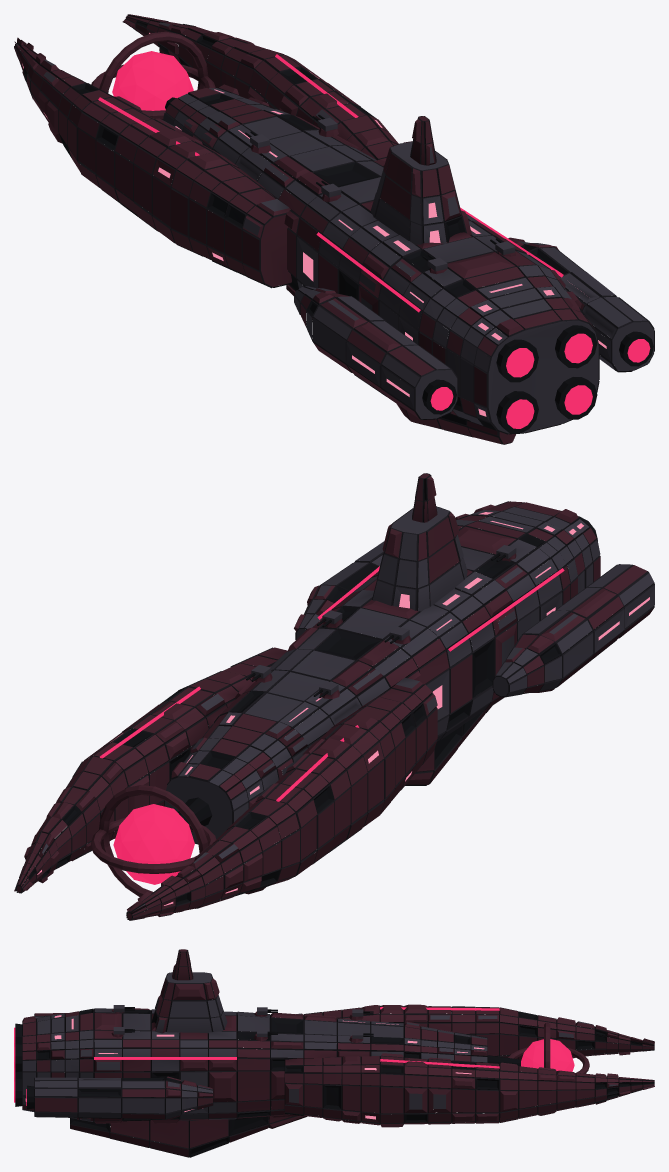
File: warden.glb
The picture shows the model from 3 angles, top to bottom: view 1: azimuth 30°, elevation 25°; view 2: azimuth 150°, elevation 25°; view 3: azimuth 270°, elevation 25°; orthographic projection. The views are drawn at different scales.
Parts seen in each view (by area): view 1: warden; view 2: warden; view 3: warden.
Part boxes in pixels (x1,y1,x2,y2): warden: [14, 14, 654, 444]; warden: [14, 473, 654, 920]; warden: [14, 949, 654, 1157].
Size of the model in its own units: 157 by 183 by 520.
